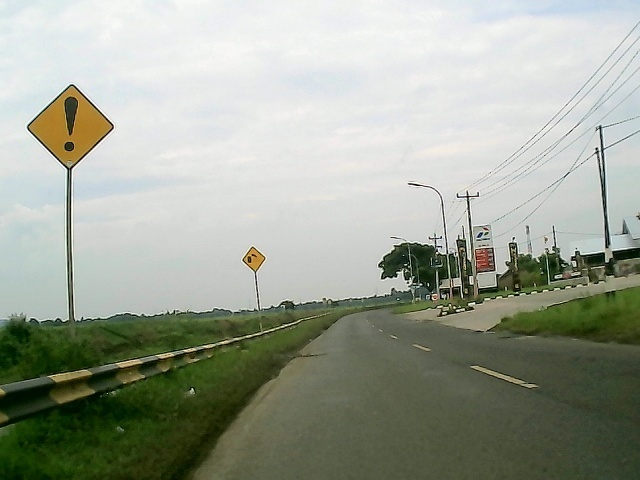Hati-hati: (20, 80, 117, 173)
Peringatan tepi air: (238, 244, 267, 273)
